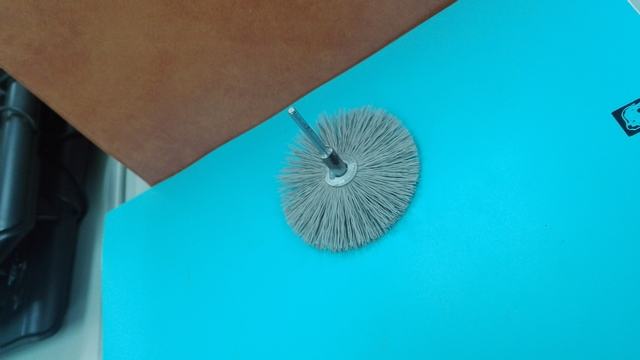TOOL: (225, 99, 498, 266), (254, 76, 435, 261), (265, 105, 417, 247)
